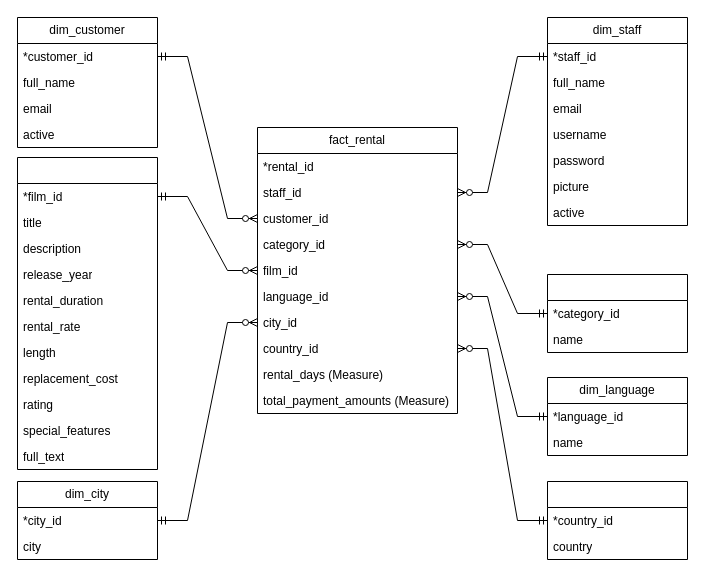
Some shapes in this 705 by 580 pixel diagram are drawn without their labels. The box of each missing label's shape, as (x1, y1, x2, y2) in pixels:
dim_category: (546, 274, 688, 352)
dim_country: (546, 480, 688, 560)
dim_film: (16, 156, 158, 470)
